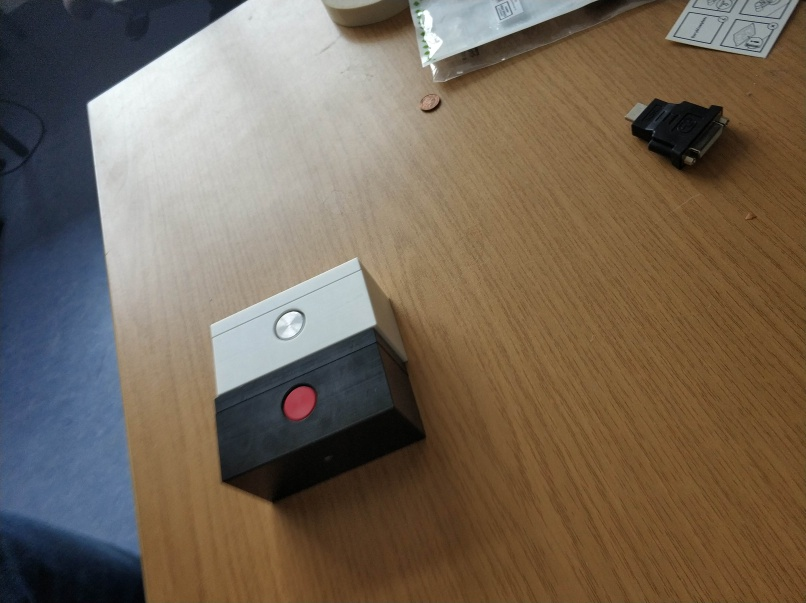black+black+red: (212, 324, 428, 498)
white+white+silver: (209, 256, 410, 396)
